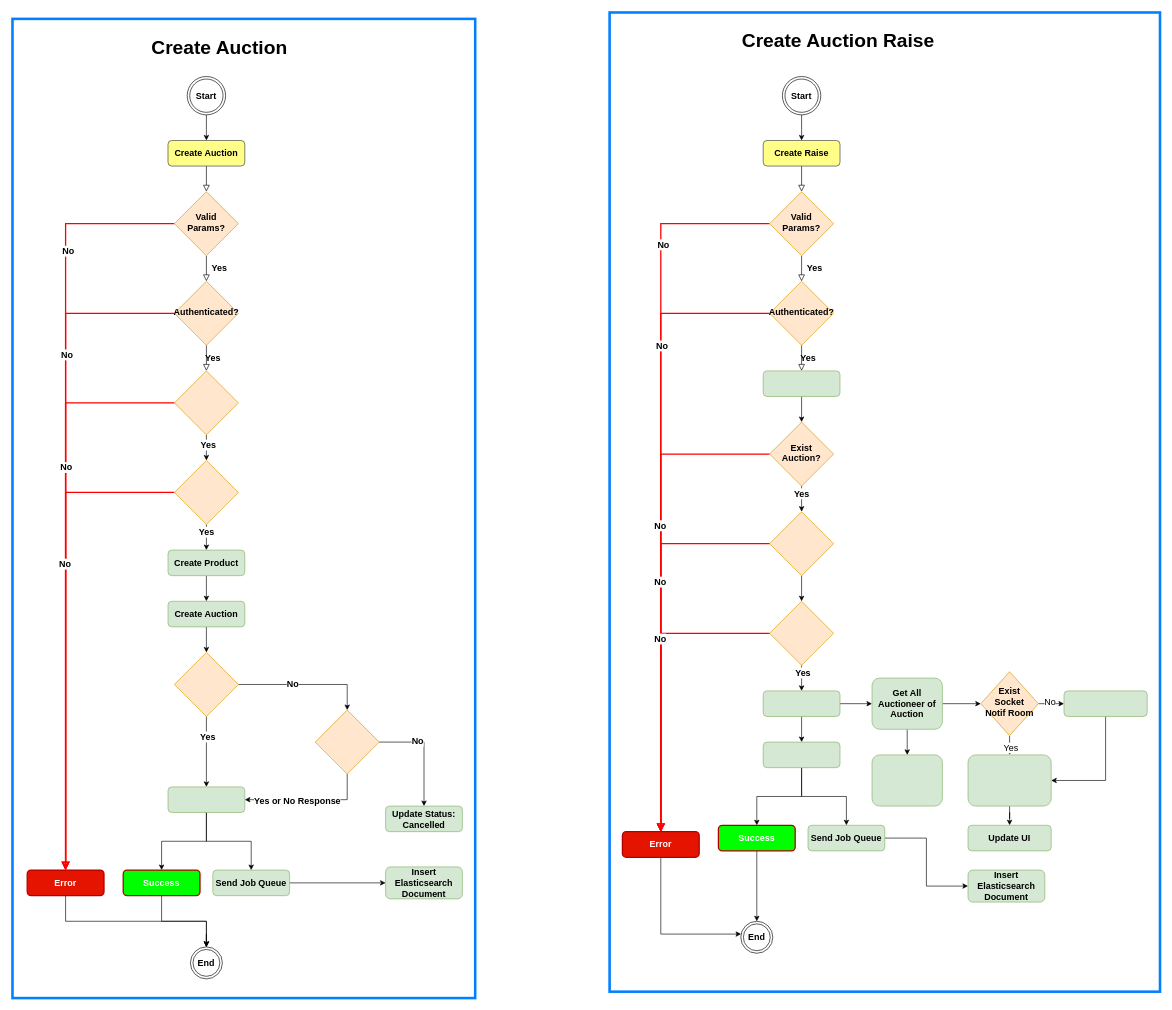
Image size: 1172x1010. Some labels were removed from this diagram. Here are the shapes that lost their labels. From the top down, the box of each, then its label:
(174, 370, 238, 435): Authorization?
(763, 370, 840, 396): Get Auction Detail
(174, 460, 238, 524): User is able to create Auction?
(769, 511, 834, 576): Valid Price Raise?
(769, 601, 834, 665): User can Raise?
(174, 652, 238, 716): User Is Verified?
(763, 690, 840, 716): Update Auction
(1063, 690, 1147, 716): Create New Room
(315, 709, 379, 774): Admin Verify Auction Is Valid?
(763, 741, 840, 768): Create Auction History
(167, 786, 245, 812): Update Status: Ready
(871, 754, 942, 806): Create Or Update Notification History
(967, 754, 1051, 806): Send Notification to Seller, and All Auctioneer
